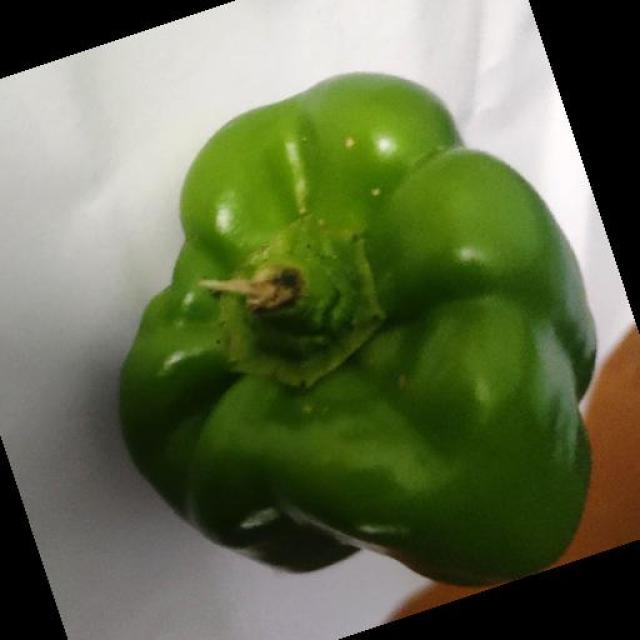Fresh_Capsicum: (176, 93, 640, 594)
